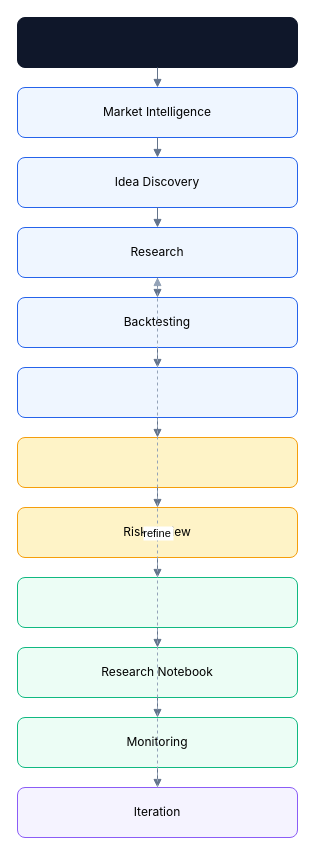
This 315x855 diagram has some shape labels left out. The shapes that lost their labels are listed below. From the top down, each one's box as (x1, y1, x2, y2) in pixels, then its label:
(16, 16, 298, 68): Morning
(16, 366, 298, 418): Validation
(16, 436, 298, 488): AI Review
(16, 576, 298, 628): Paper Trading
